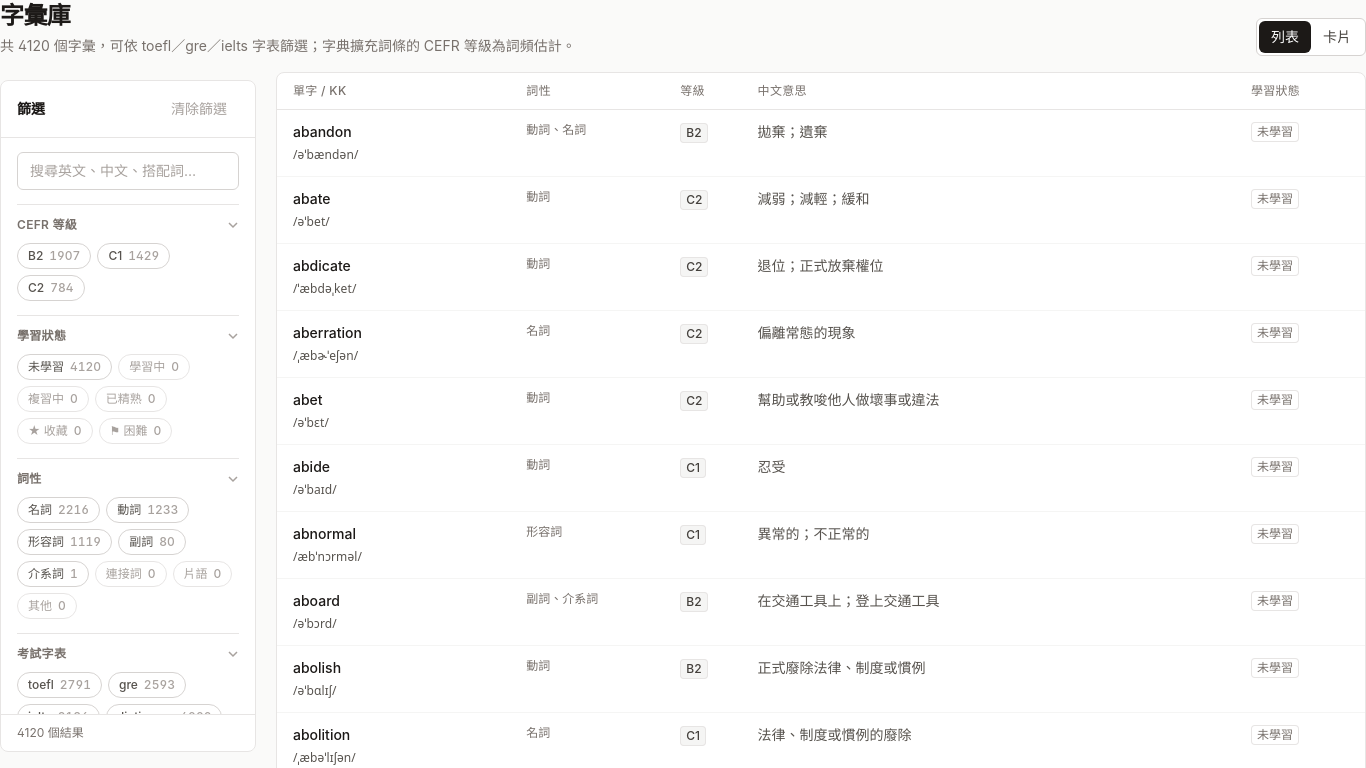
WordBankPage › filters by keyword search
The width and height of the screenshot is (1366, 768).
Check: the heading "字彙庫" is shown, box 0,1 -> 70,30
Type "consolidate" into the search field named "搜尋字彙" at (128, 171), box 17,152 -> 239,190
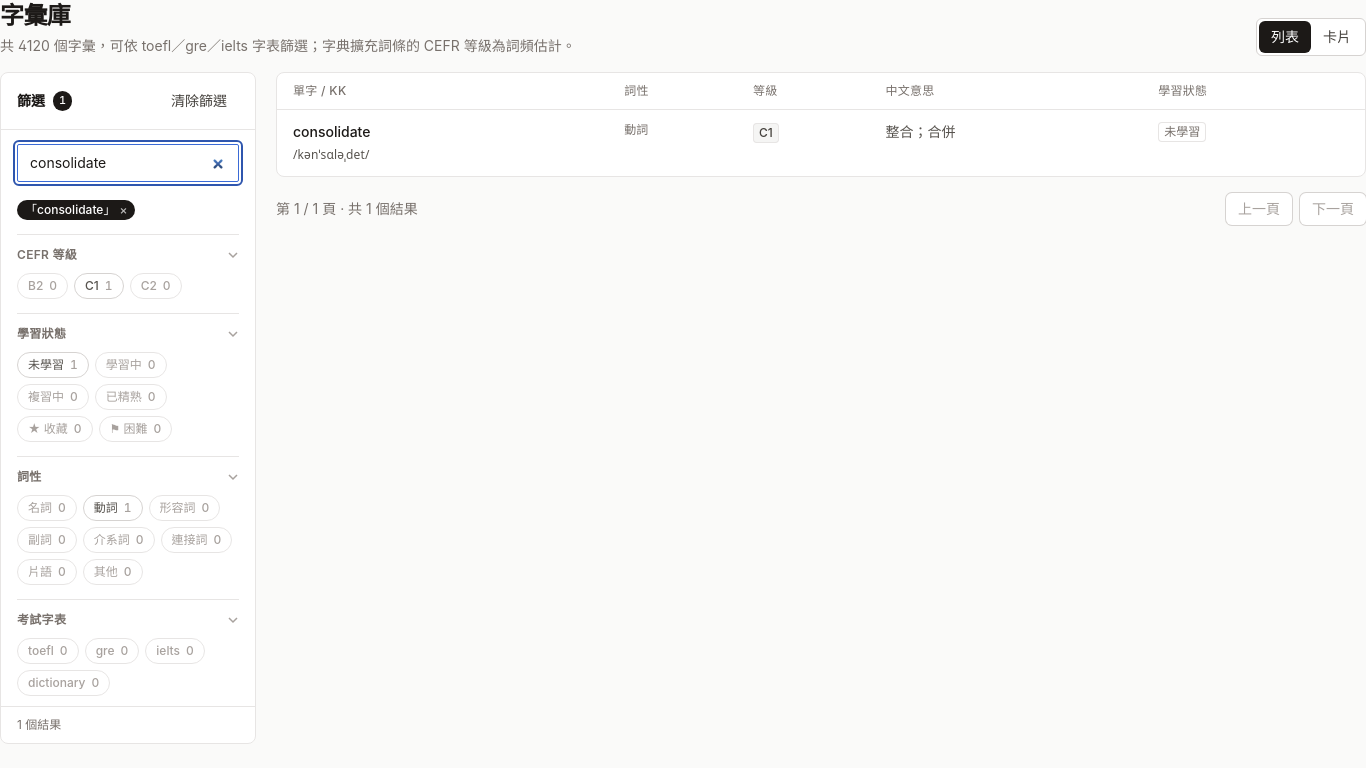
Check: the link "consolidate" is shown, box 293,123 -> 370,140
